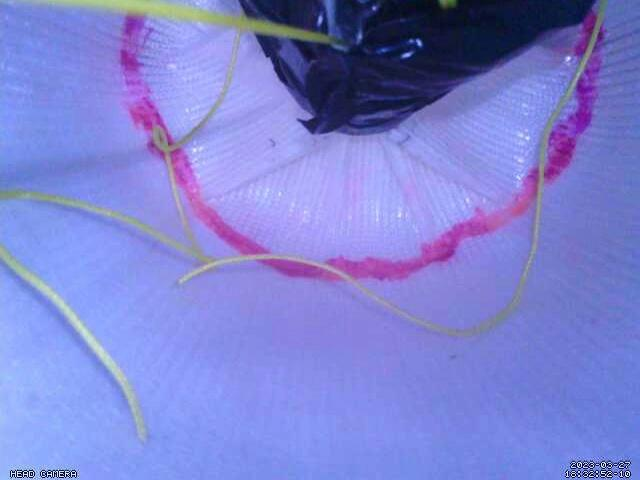head: (118, 11, 607, 282)
